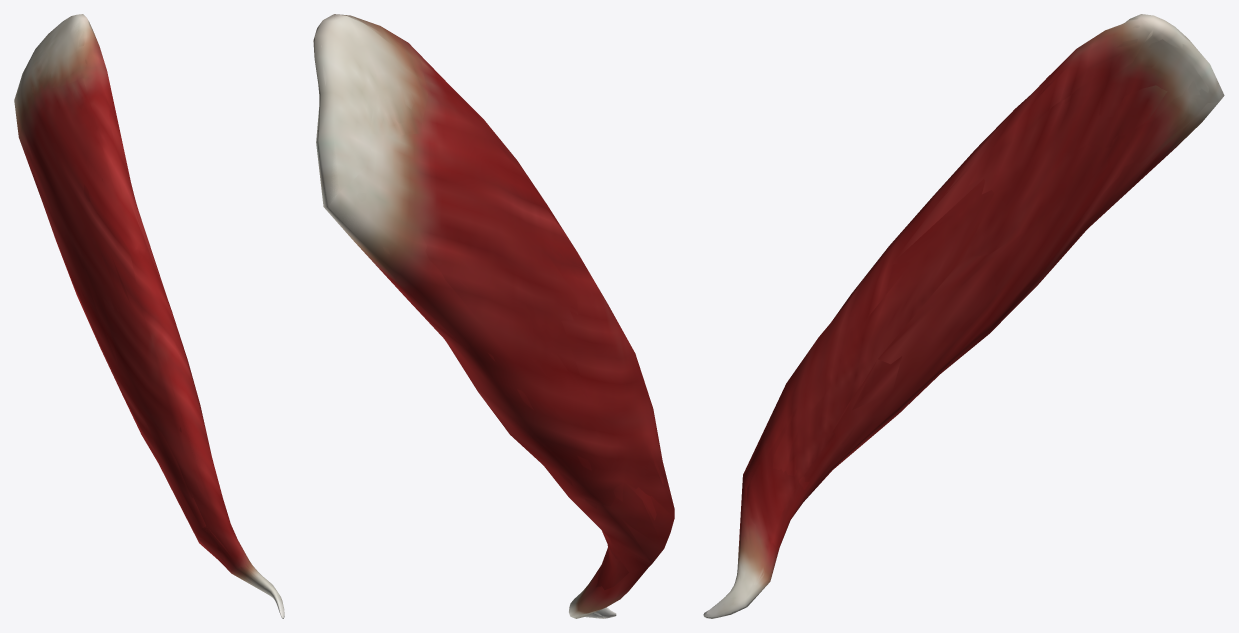
Rendered from R Infraspinatus.fbx.
3 views of the same model, side by side, from view 1: azimuth 30°, elevation 25°; view 2: azimuth 150°, elevation 25°; view 3: azimuth 270°, elevation 25° (orthographic). The views are drawn at different scales.
Visible parts, largest first — view 1: R Infraspinatus, R Infraspinatus low, R Infraspinatus high; view 2: R Infraspinatus, R Infraspinatus low, R Infraspinatus high; view 3: R Infraspinatus low, R Infraspinatus, R Infraspinatus high.
Part boxes in pixels (box(x1,y1,x2,y2)): R Infraspinatus: box(14, 14, 284, 618); R Infraspinatus low: box(16, 16, 280, 610); R Infraspinatus high: box(19, 20, 283, 615); R Infraspinatus: box(313, 14, 674, 618); R Infraspinatus low: box(314, 14, 674, 618); R Infraspinatus high: box(318, 25, 663, 617); R Infraspinatus low: box(711, 14, 1223, 614); R Infraspinatus: box(703, 14, 1224, 618); R Infraspinatus high: box(706, 18, 1208, 616).
Bounding box in the file's own units: 1.22 × 6.14 × 4.94.
Materials: 1 (1 with a texture image).
